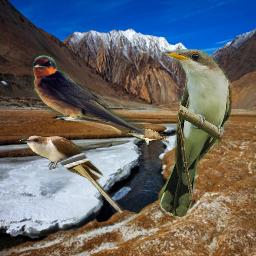Cuckoo: (159, 49, 233, 217), (19, 134, 125, 215), (125, 128, 169, 149)
Swallow: (31, 53, 145, 135)
